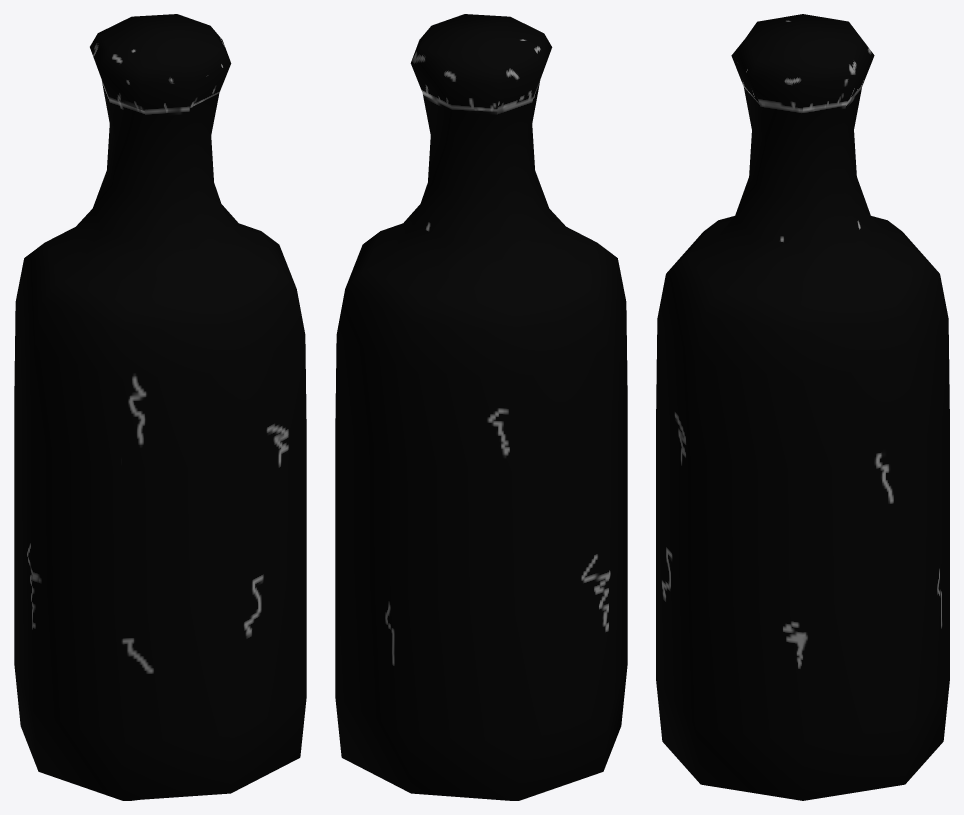
The model's file is bottle.obj.
3 views of the same model, side by side, from view 1: azimuth 30°, elevation 25°; view 2: azimuth 150°, elevation 25°; view 3: azimuth 270°, elevation 25° (orthographic).
Parts seen in each view (by area): view 1: Bottle; view 2: Bottle; view 3: Bottle.
Boxes of the visible parts, x1,y1,x2,y2 form: Bottle: [14, 14, 306, 800]; Bottle: [335, 14, 627, 800]; Bottle: [656, 14, 949, 800].
Bounding box in the file's own units: 0.6542 × 1.78 × 0.6542.
